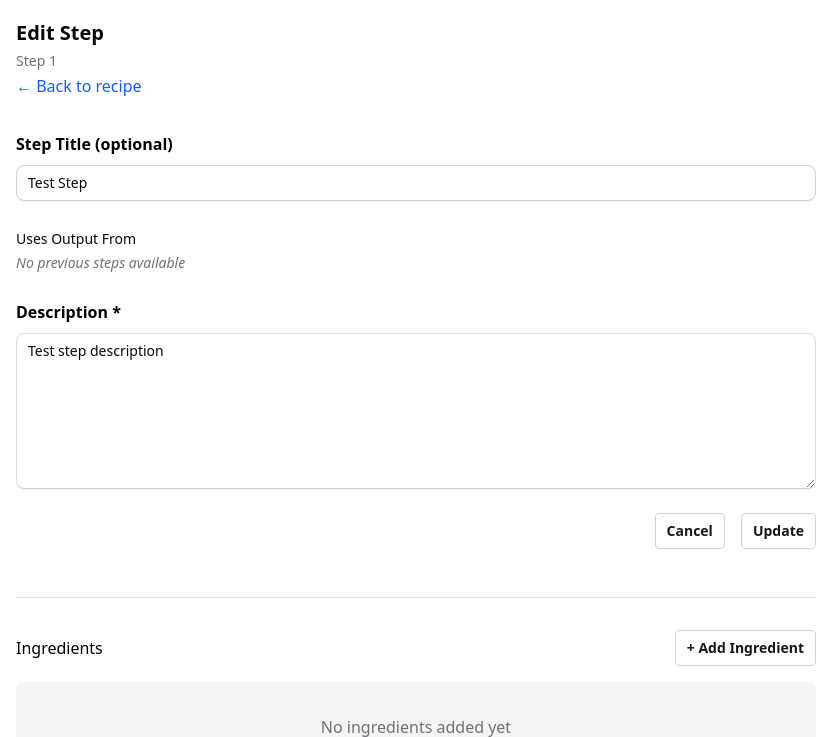
HTML5 validation attributes › recipes.$id.steps.$stepId.edit ingredient form › quantity field has min attribute
The width and height of the screenshot is (833, 737).
Expected: the heading "Edit Step" is shown, [16,19,104,46]
Step 1. Click the button "+ Add Ingredient" → (745, 648), box [675,630,816,666]
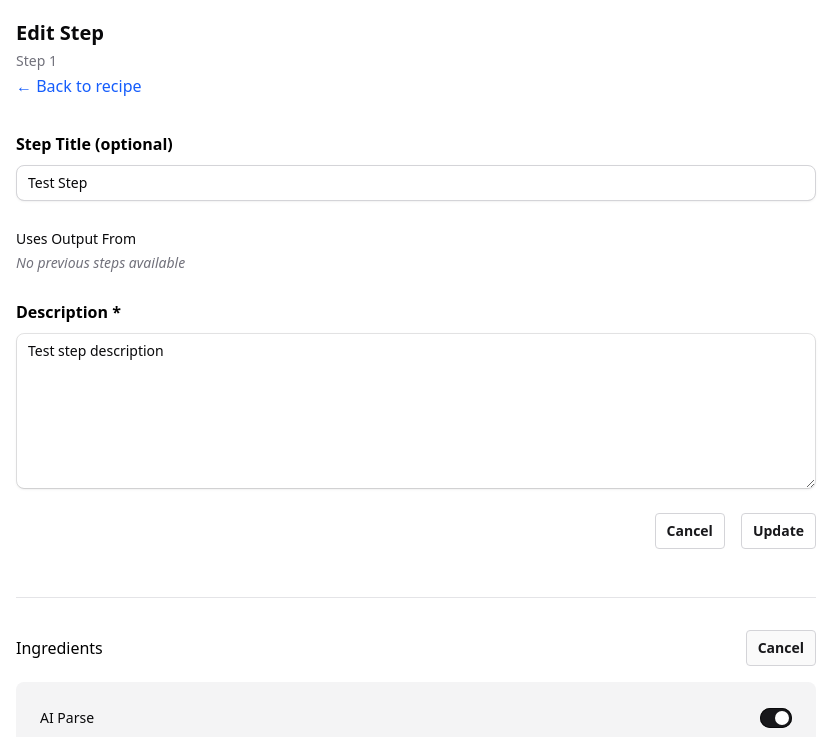
Step 2. Click the switch → (776, 718), box [760,708,792,728]
(page scrolled)
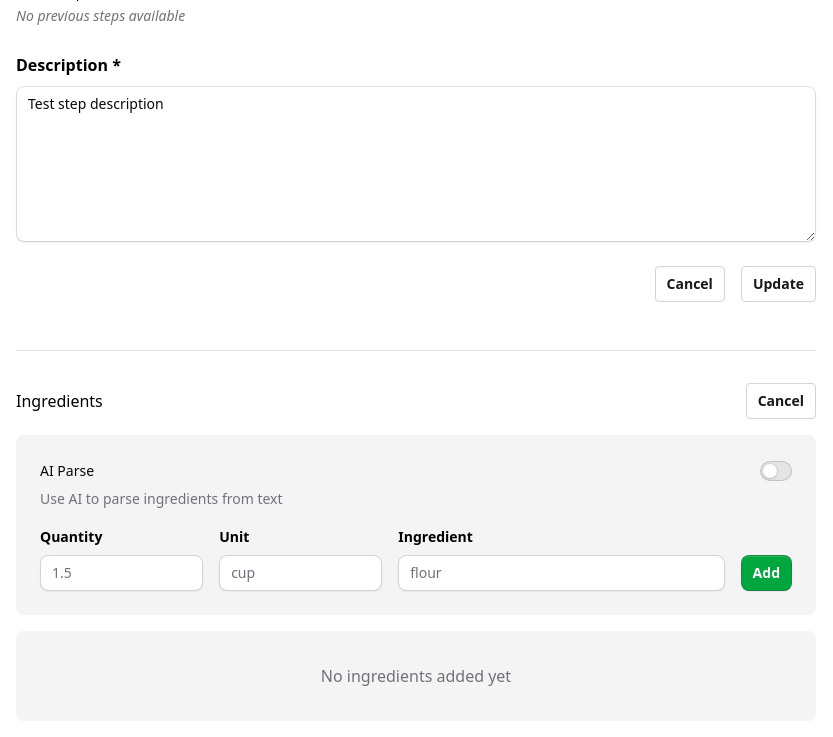
Result: the number field labelled "Quantity" is shown at [40,555,203,591]
